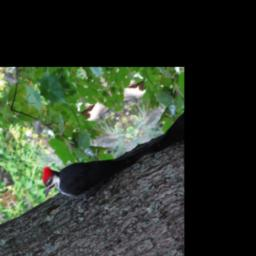Woodpecker: (31, 124, 155, 224)
